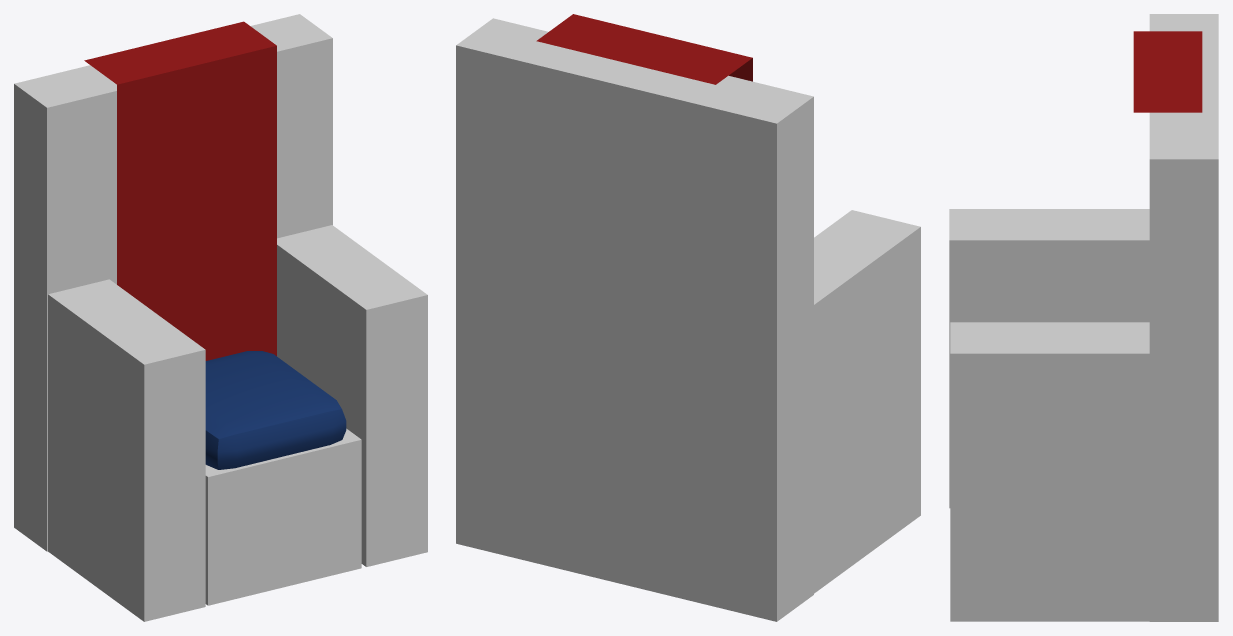
Rendered from Throne.FBX.
3 views of the same model, side by side, from view 1: azimuth 30°, elevation 25°; view 2: azimuth 150°, elevation 25°; view 3: azimuth 270°, elevation 25° (orthographic). The views are drawn at different scales.
Visible parts, largest first — view 1: Object, Box001, Box004, Box002, Box003, Box005, Object001; view 2: Box004, Box001, Object, Object001; view 3: Box002, Box004, Box001, Object, Object001.
Boxes of the visible parts, left/top/right/bottom form: Object: left=84, top=21, right=276, bottom=360; Box001: left=48, top=279, right=205, bottom=621; Box004: left=14, top=14, right=332, bottom=551; Box002: left=277, top=225, right=427, bottom=566; Box003: left=205, top=428, right=361, bottom=605; Box005: left=205, top=351, right=346, bottom=469; Object001: left=76, top=65, right=116, bottom=284; Box004: left=456, top=18, right=813, bottom=621; Box001: left=814, top=210, right=920, bottom=593; Object: left=536, top=14, right=752, bottom=84; Object001: left=528, top=45, right=743, bottom=106; Box002: left=950, top=322, right=1149, bottom=621; Box004: left=1149, top=14, right=1218, bottom=621; Box001: left=949, top=209, right=1149, bottom=508; Object: left=1133, top=31, right=1202, bottom=112; Object001: left=1149, top=45, right=1218, bottom=126.
Bounding box in the file's own units: 36.61 × 56.02 × 28.67.
